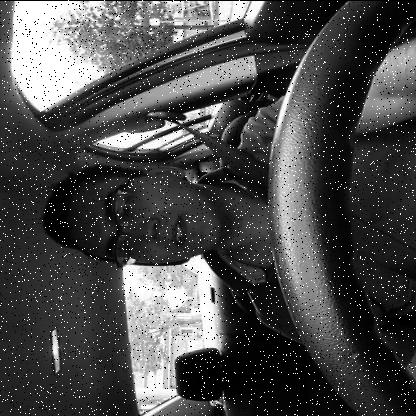seatbelt: (36, 105, 416, 269)
